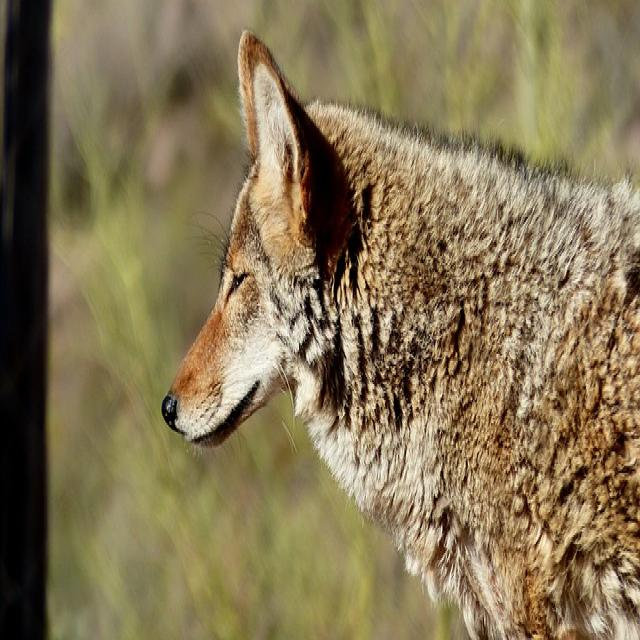Carnivorous: (160, 32, 640, 640)
